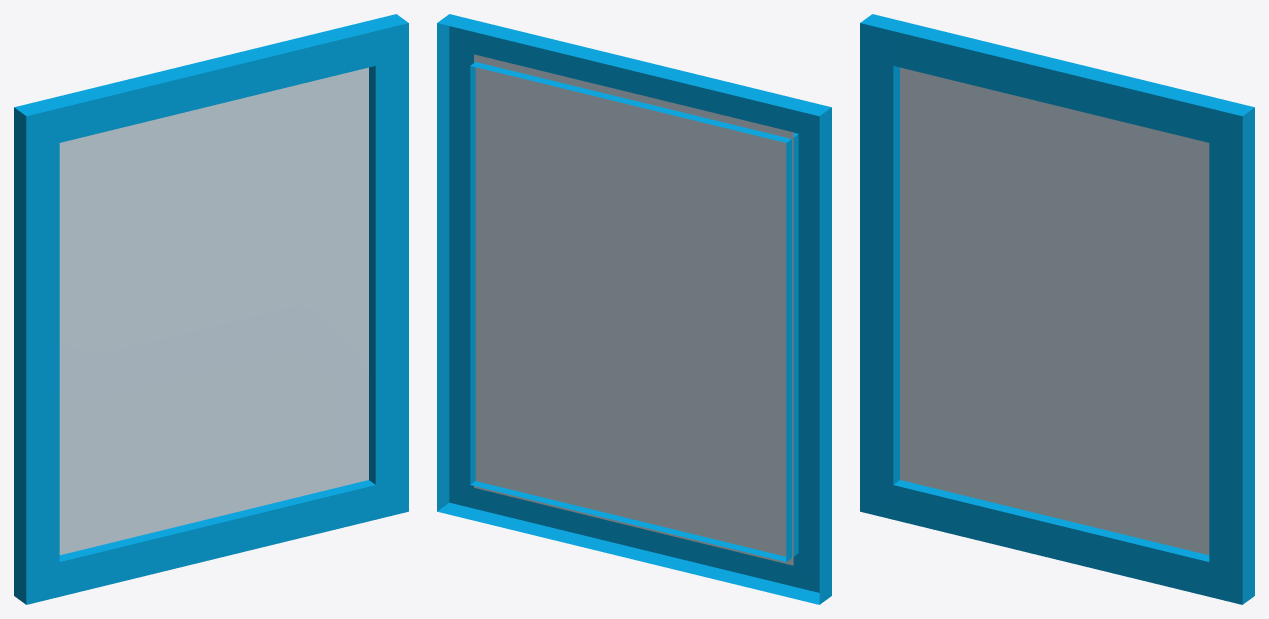
File: picture_026.glb
The picture shows the model from 3 angles, left to right: view 1: azimuth 30°, elevation 25°; view 2: azimuth 150°, elevation 25°; view 3: azimuth 330°, elevation 25°; orthographic projection.
Parts seen in each view (by area): view 1: picture_026; view 2: picture_026; view 3: picture_026.
Part boxes in pixels (left/top/right/bottom): picture_026: left=14, top=14, right=408, bottom=604; picture_026: left=437, top=14, right=831, bottom=604; picture_026: left=860, top=14, right=1254, bottom=604.
Bounding box in the file's own units: 0.3904 × 0.4768 × 0.0218.
1 material, 1 textured.
